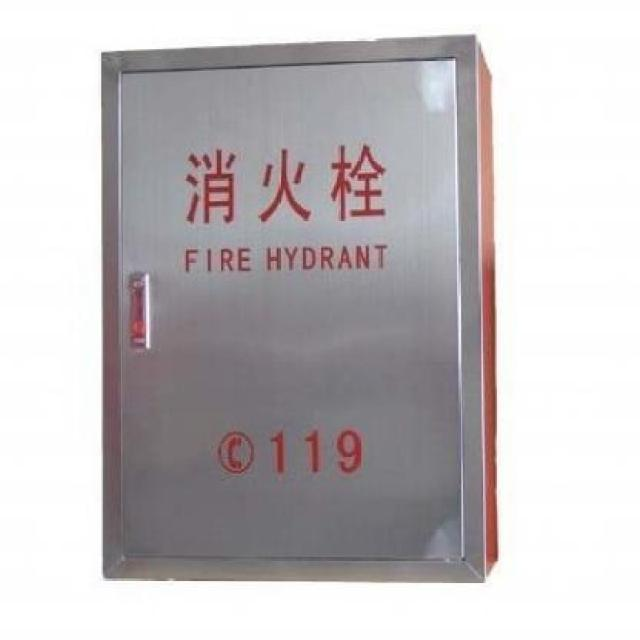firehydrant: (97, 29, 503, 588)
